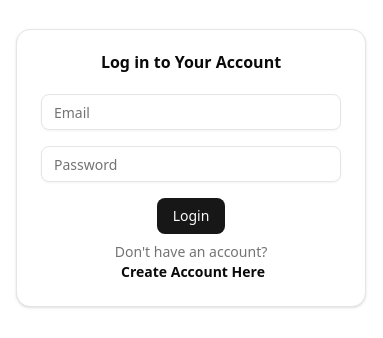
Test: Login Component › validates email format and shows error for invalid email
# Enter invalid email
Step 1. Type "invalid-email" into the field with placeholder "Email" → (191, 112), box [41,94,341,130]
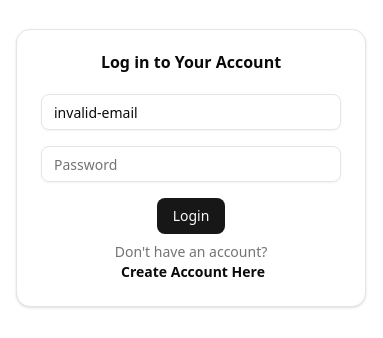
Step 2. Leave the field with placeholder "Email", box [41,94,341,130]
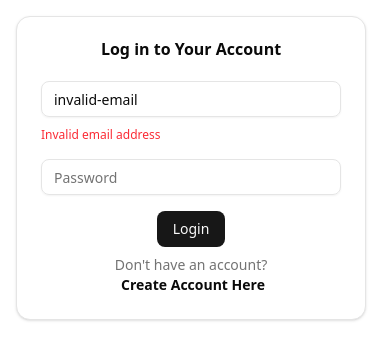
Now the text "Invalid email address" is shown, box [41,126,160,143]
